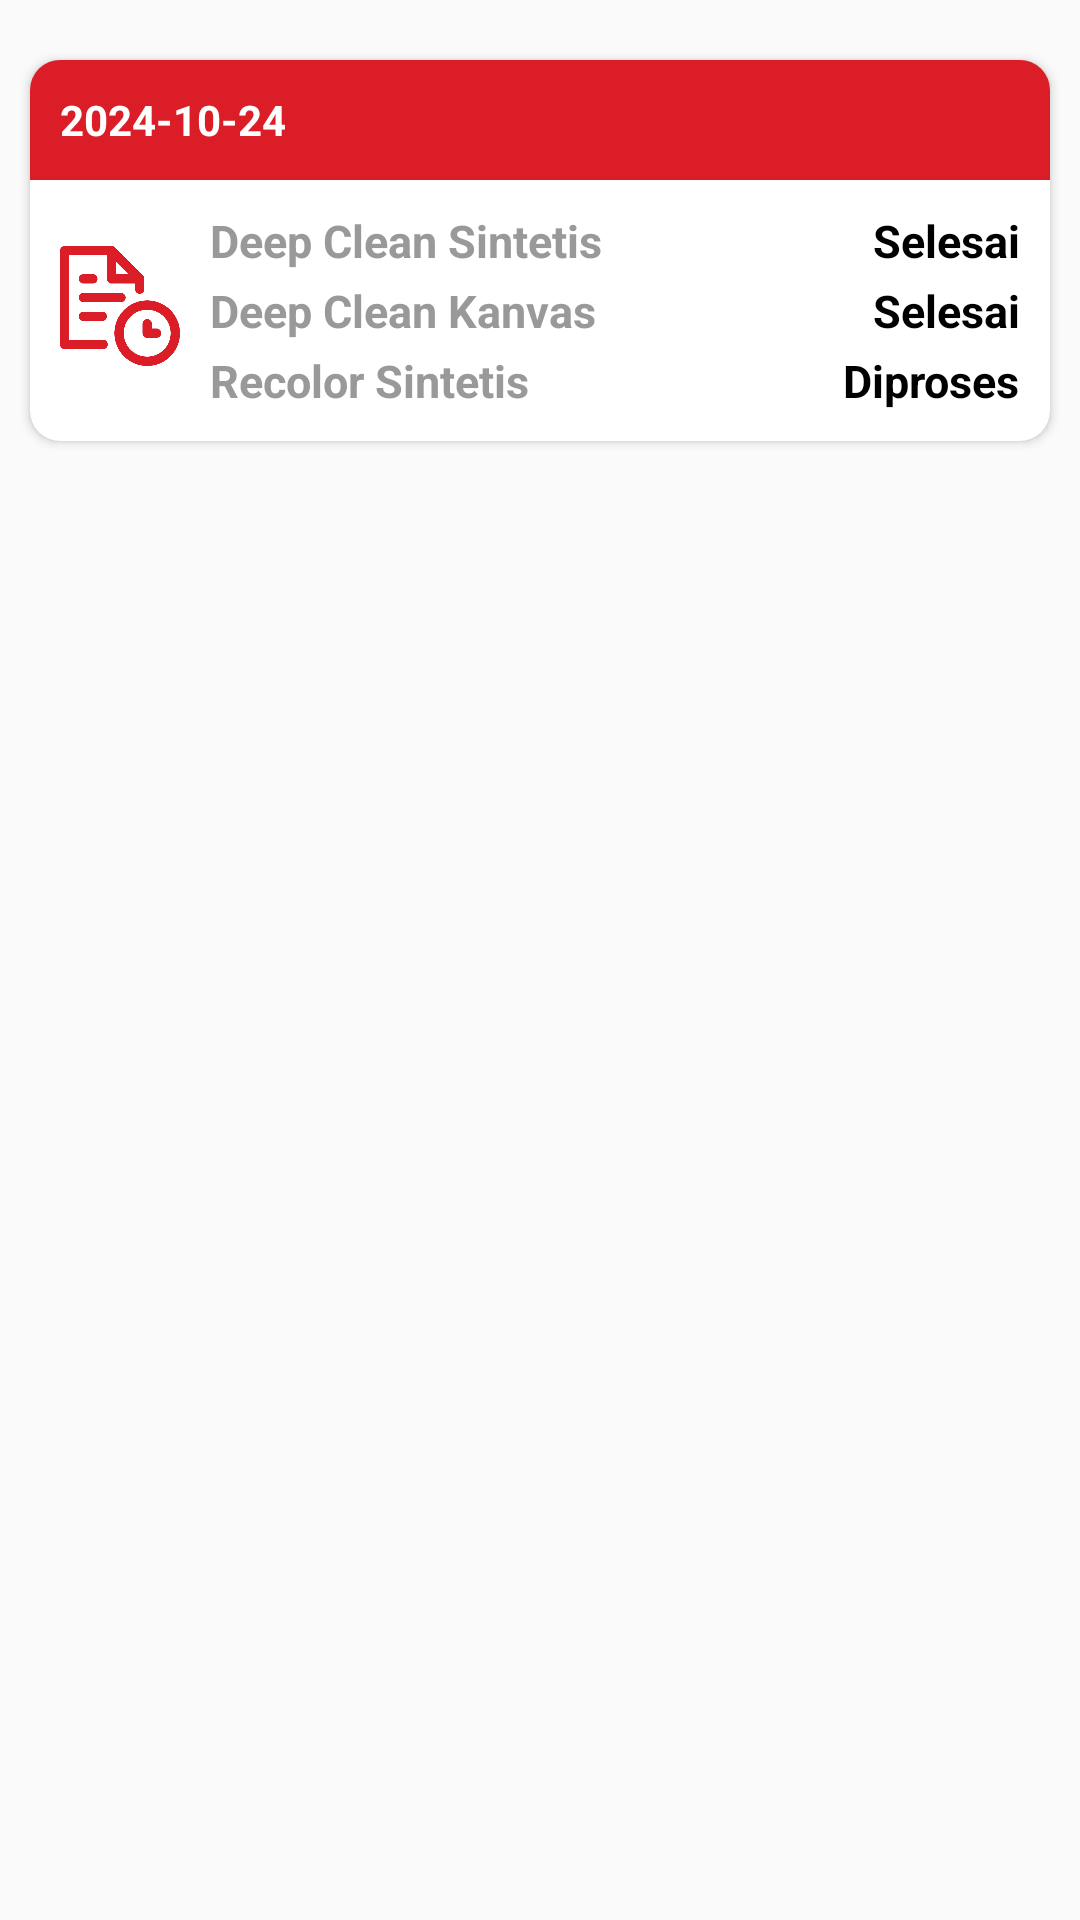

Where to tap for icons on this 1080x1920 app screen, as point (x, y):
file: point (120, 306)
